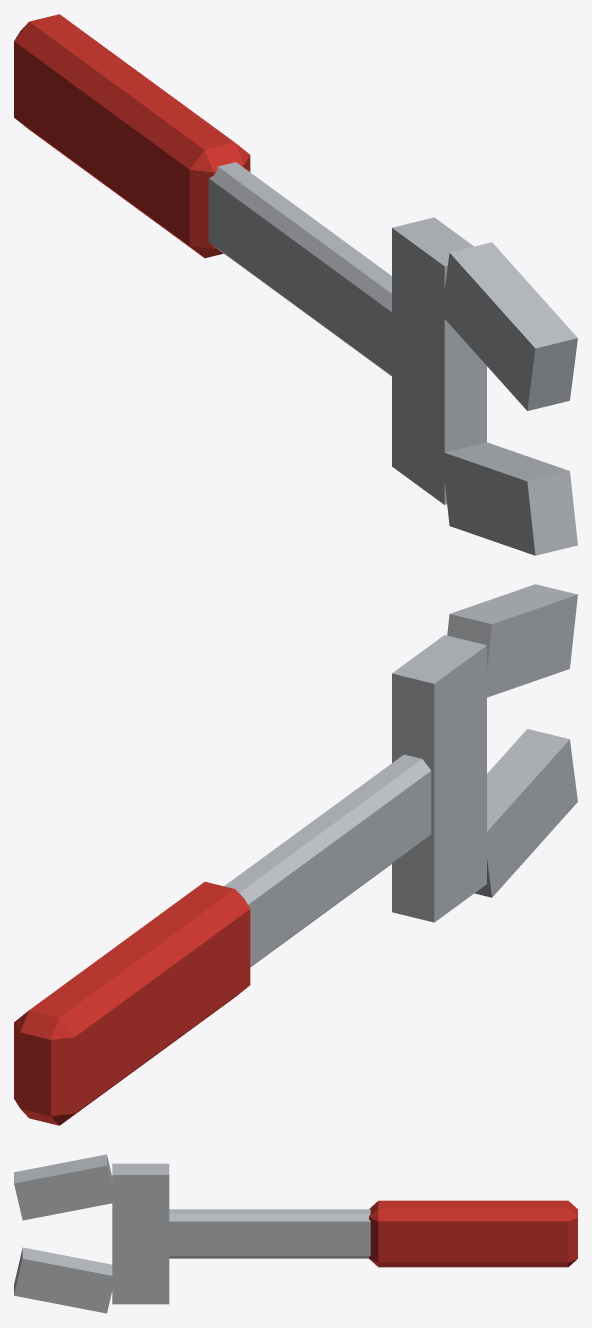
File: prop_wrench.glb
The picture shows the model from 3 angles, top to bottom: view 1: azimuth 30°, elevation 25°; view 2: azimuth 150°, elevation 25°; view 3: azimuth 270°, elevation 25°; orthographic projection. The views are drawn at different scales.
Parts seen in each view (by area): view 1: PropWrench; view 2: PropWrench; view 3: PropWrench.
Part boxes in pixels (x1,y1,x2,y2): PropWrench: (14,14,577,555); PropWrench: (14,584,577,1125); PropWrench: (14,1154,577,1313).
Size of the model in its own units: 0.02 by 0.0859 by 0.2967.
